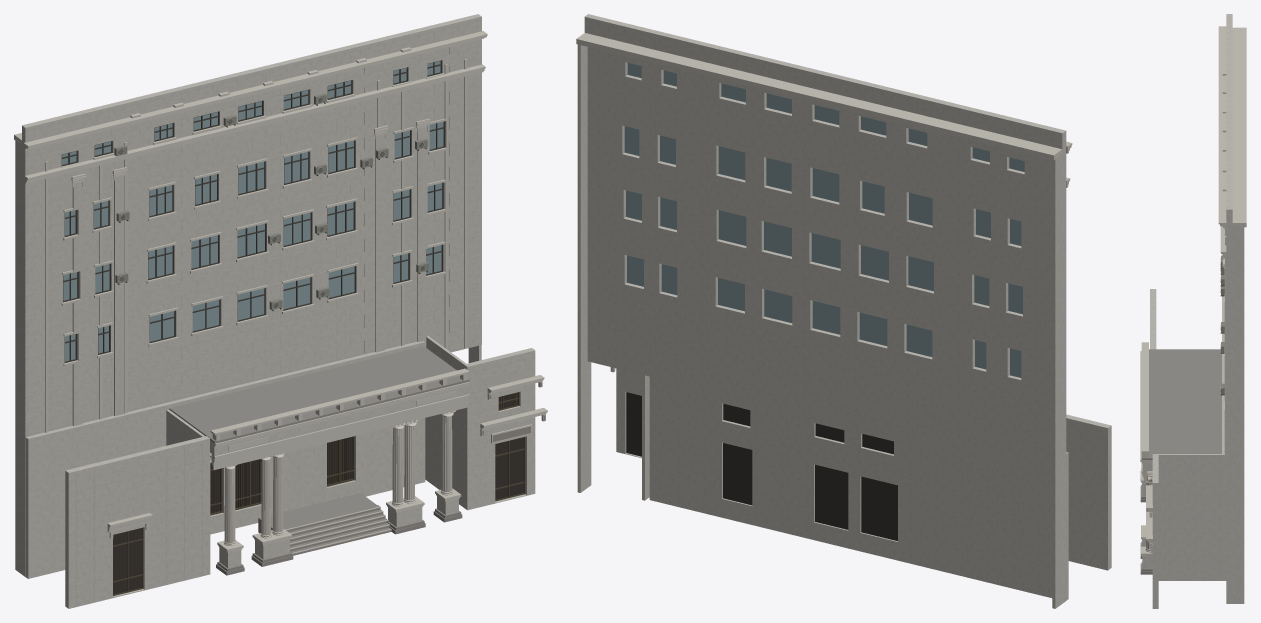
The model's file is huangpu-chung-foo-union-bank-dianchi-front-web.glb.
3 views of the same model, side by side, from view 1: azimuth 30°, elevation 25°; view 2: azimuth 150°, elevation 25°; view 3: azimuth 270°, elevation 25° (orthographic). The views are drawn at different scales.
Visible parts, largest first — view 1: 中孚银行北立面与爱奥尼柱廊; view 2: 中孚银行北立面与爱奥尼柱廊; view 3: 中孚银行北立面与爱奥尼柱廊.
Part boxes in pixels (x1,y1,x2,y2): 中孚银行北立面与爱奥尼柱廊: [14, 14, 547, 608]; 中孚银行北立面与爱奥尼柱廊: [576, 14, 1111, 608]; 中孚银行北立面与爱奥尼柱廊: [1140, 14, 1246, 608].
Bounding box in the file's own units: 29.62 × 26.57 × 6.48.
15 materials, 1 textured.
